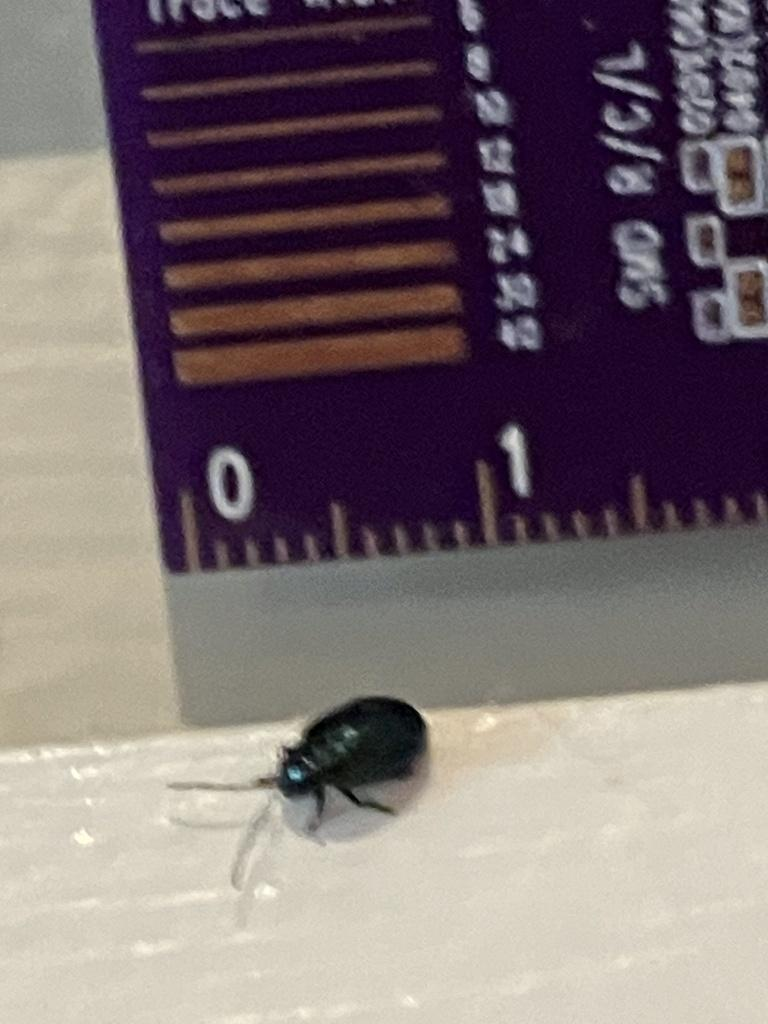flea_beetle: (134, 648, 533, 896)
